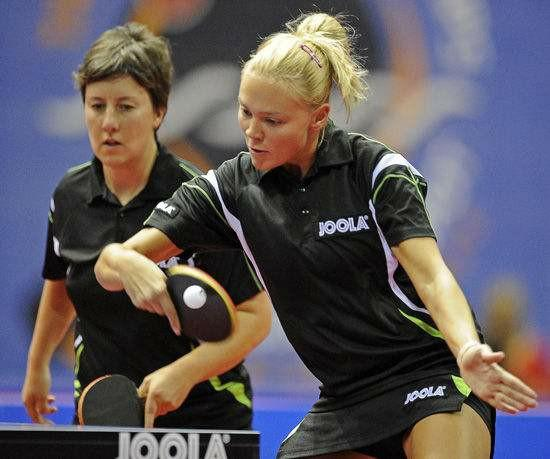ball: (179, 281, 207, 312)
